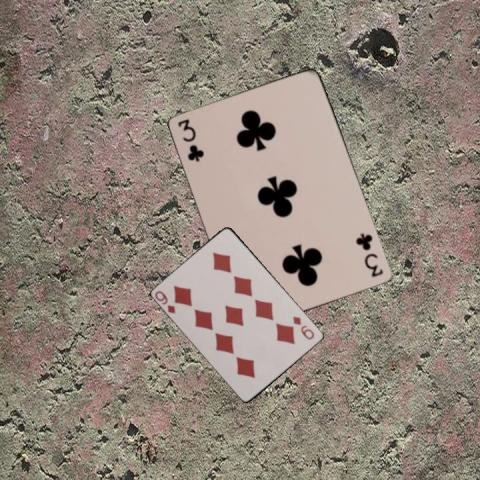3c: (353, 230, 385, 279), (175, 116, 205, 163)
9d: (290, 314, 316, 342), (152, 288, 177, 316)
